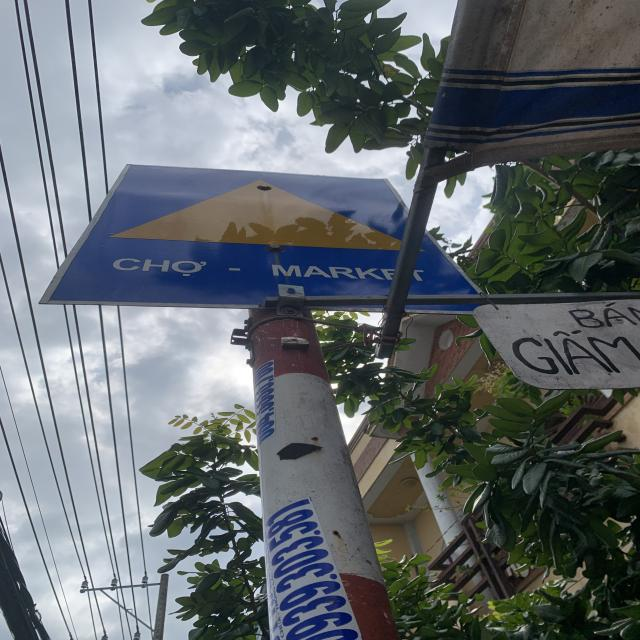Cho_Quay_Xe: (44, 165, 454, 308)
